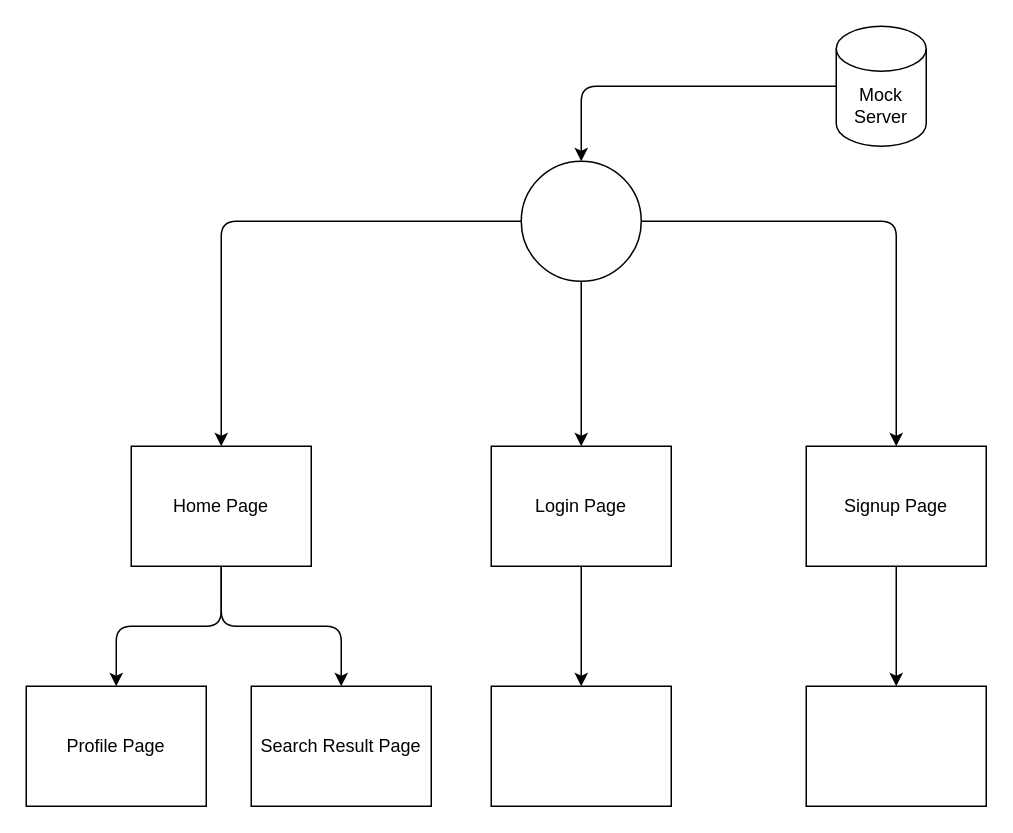
This 1013x833 diagram has some shape labels left out. Here are the shapes that lost their labels. From the top down, the centre of each, then its label:
At (x=580, y=220): "App".
At (x=580, y=745): "Dash Board".
At (x=895, y=745): "Dashboard".
